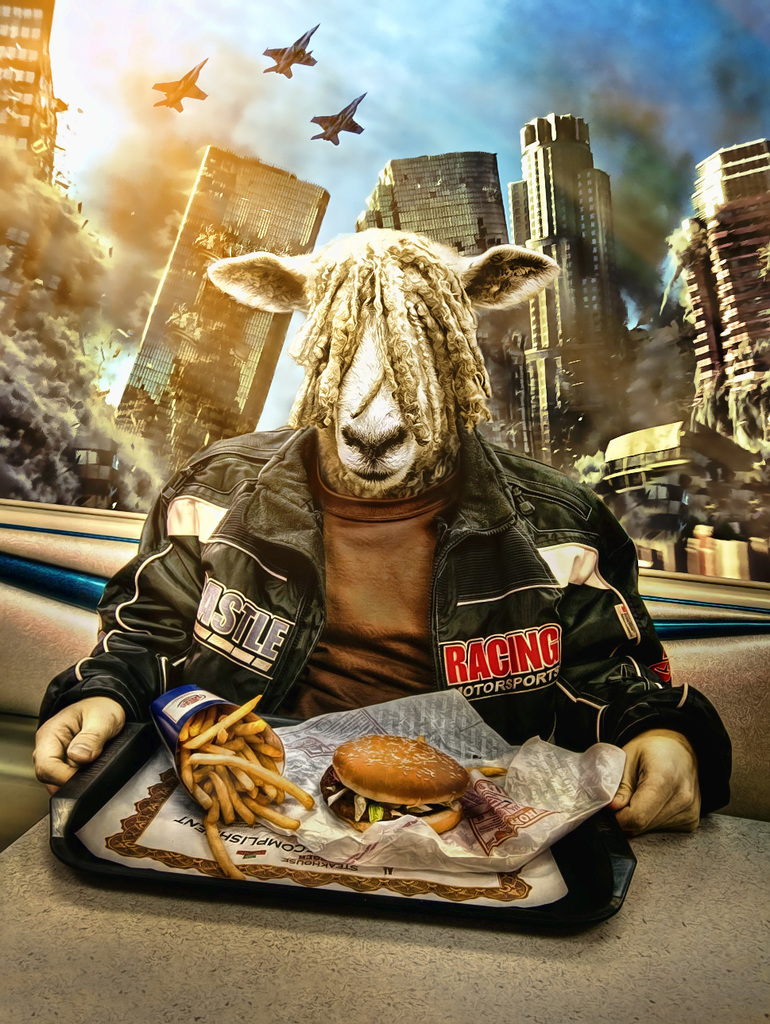French fries: (172, 688, 315, 879)
